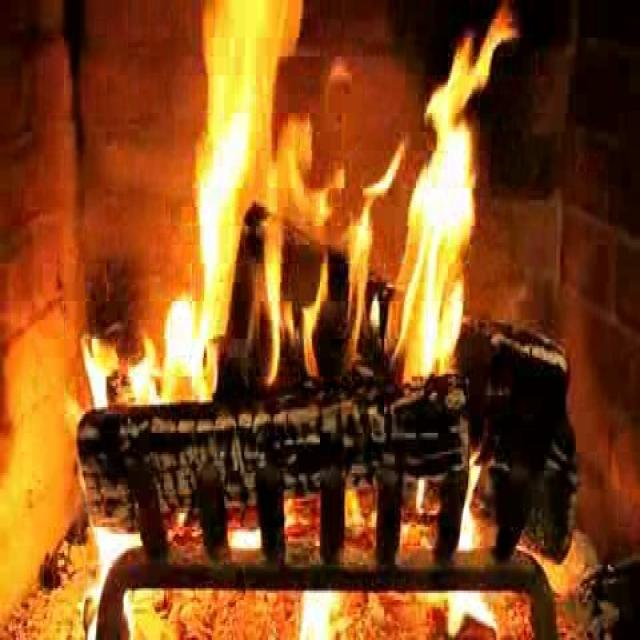fire: (166, 6, 500, 419)
